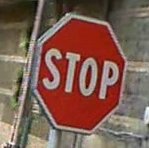stop: (31, 14, 126, 133)
